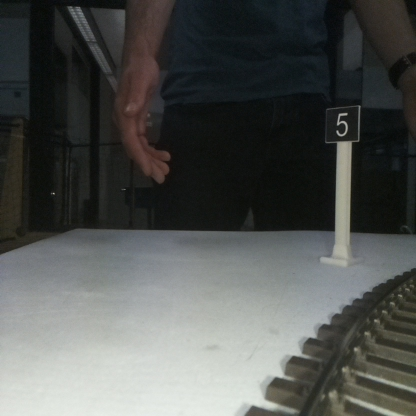black-info-5: (326, 106, 358, 261)
